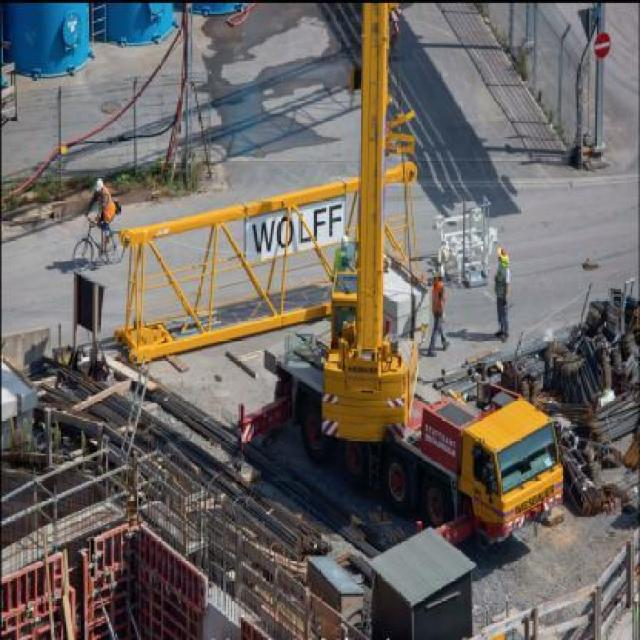Mobile Crane: (216, 4, 587, 553)
